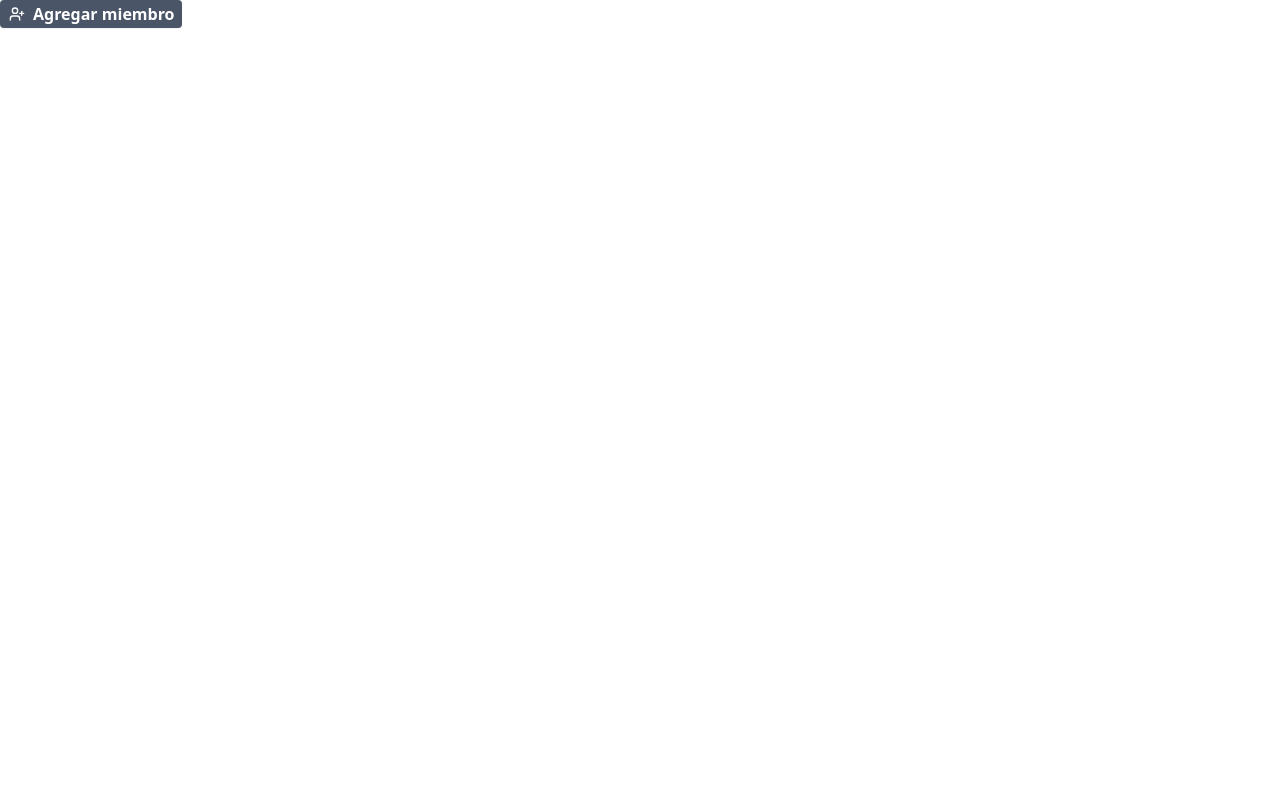
Test: AddMemberDialog › opens the modal with an accessible title when the trigger is clicked
What coordinates should you click on to do the following:
click the button "Agregar miembro"
I would click on:
 (91, 14)
Its box is 0,0 -> 182,28.
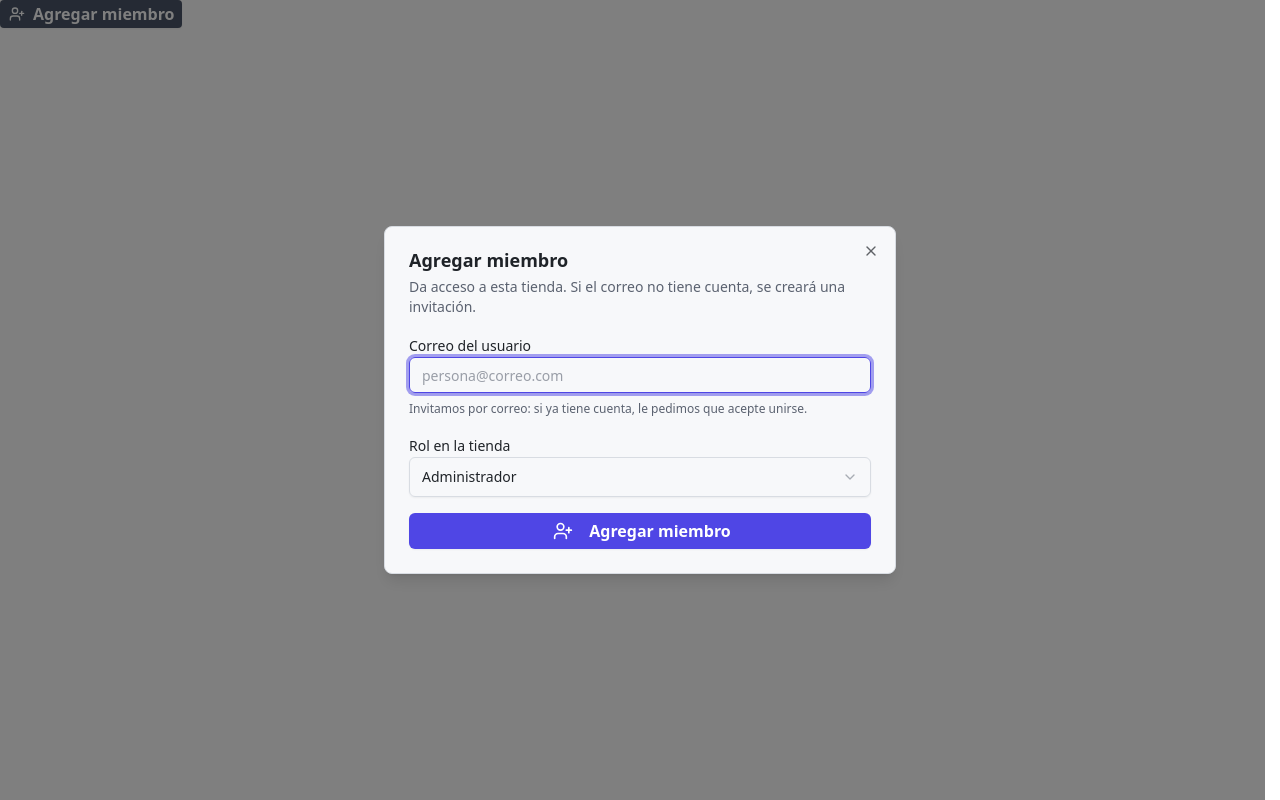
Now the heading "Agregar miembro" is shown, box 409,248 -> 568,272
